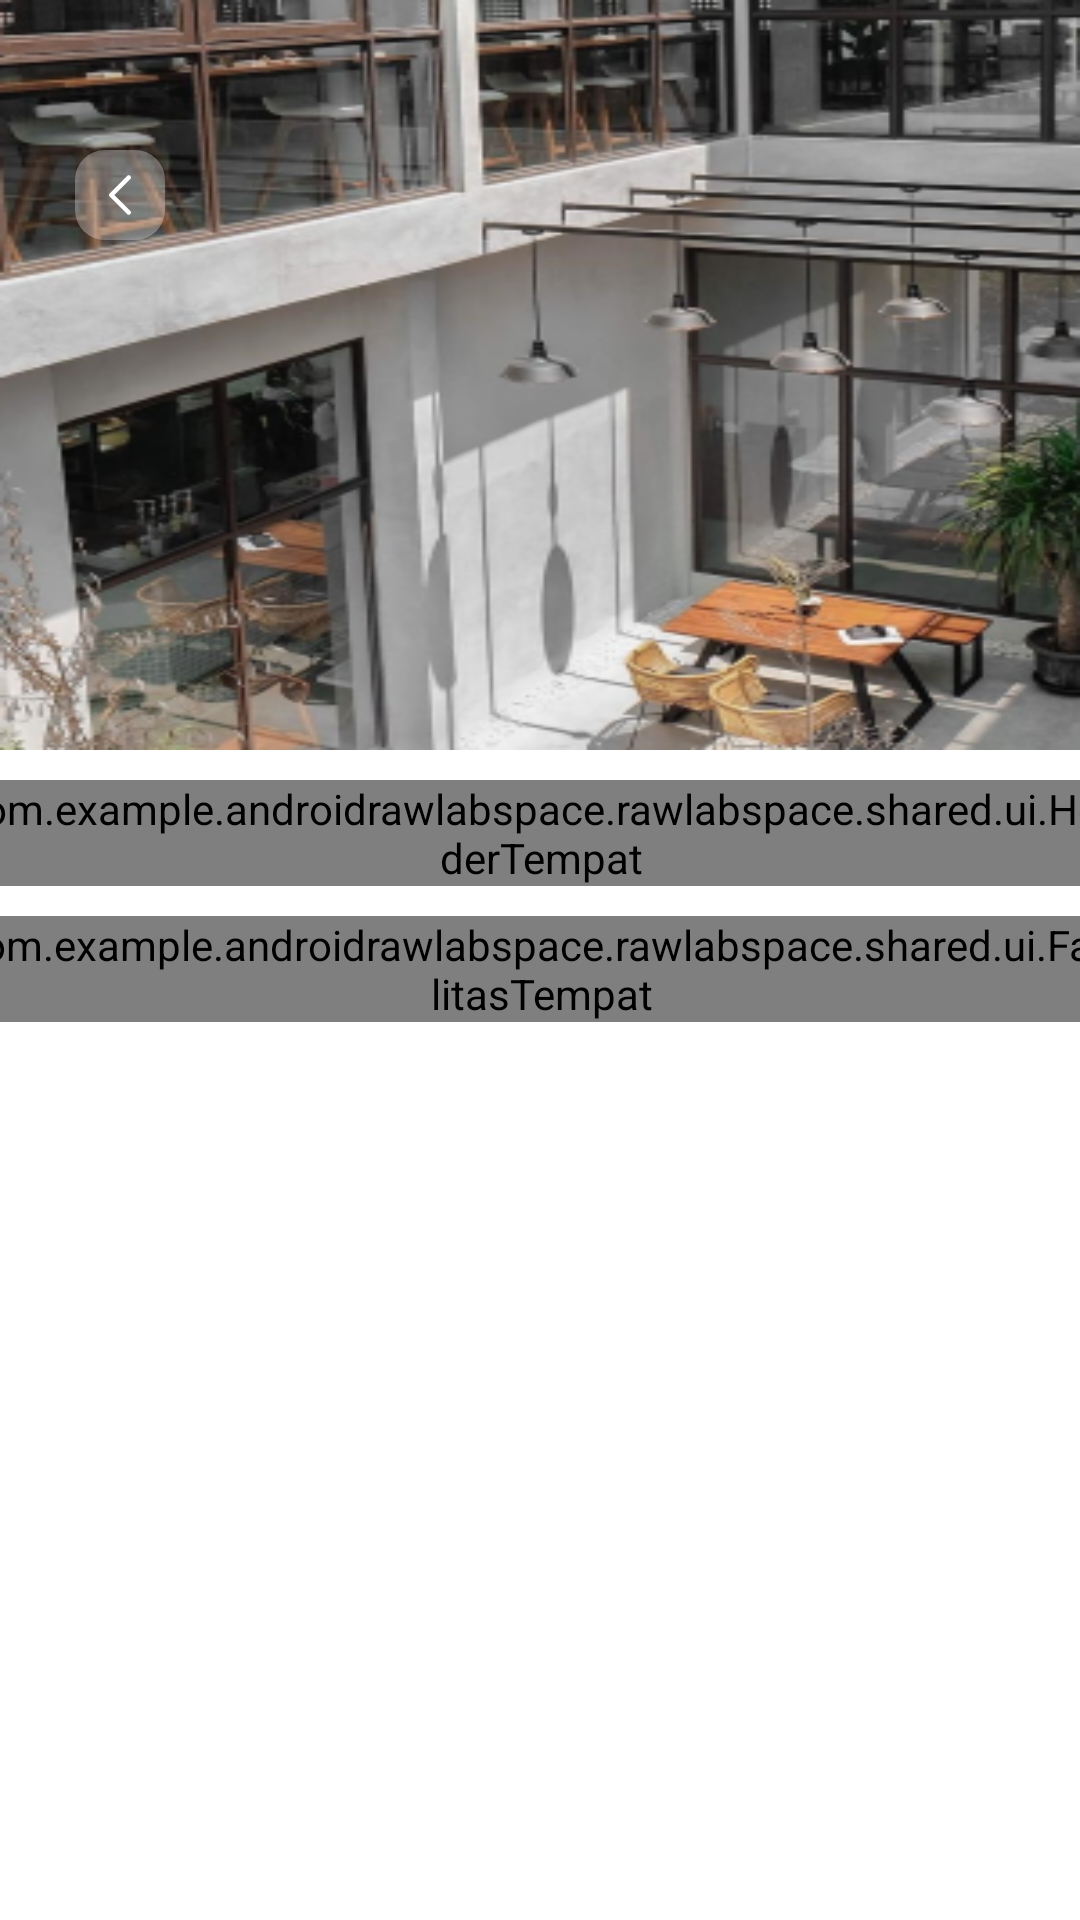

Where to tap for icons on this 1080px x 1920px app screen, as (x,y):
backicon: (120,195)
